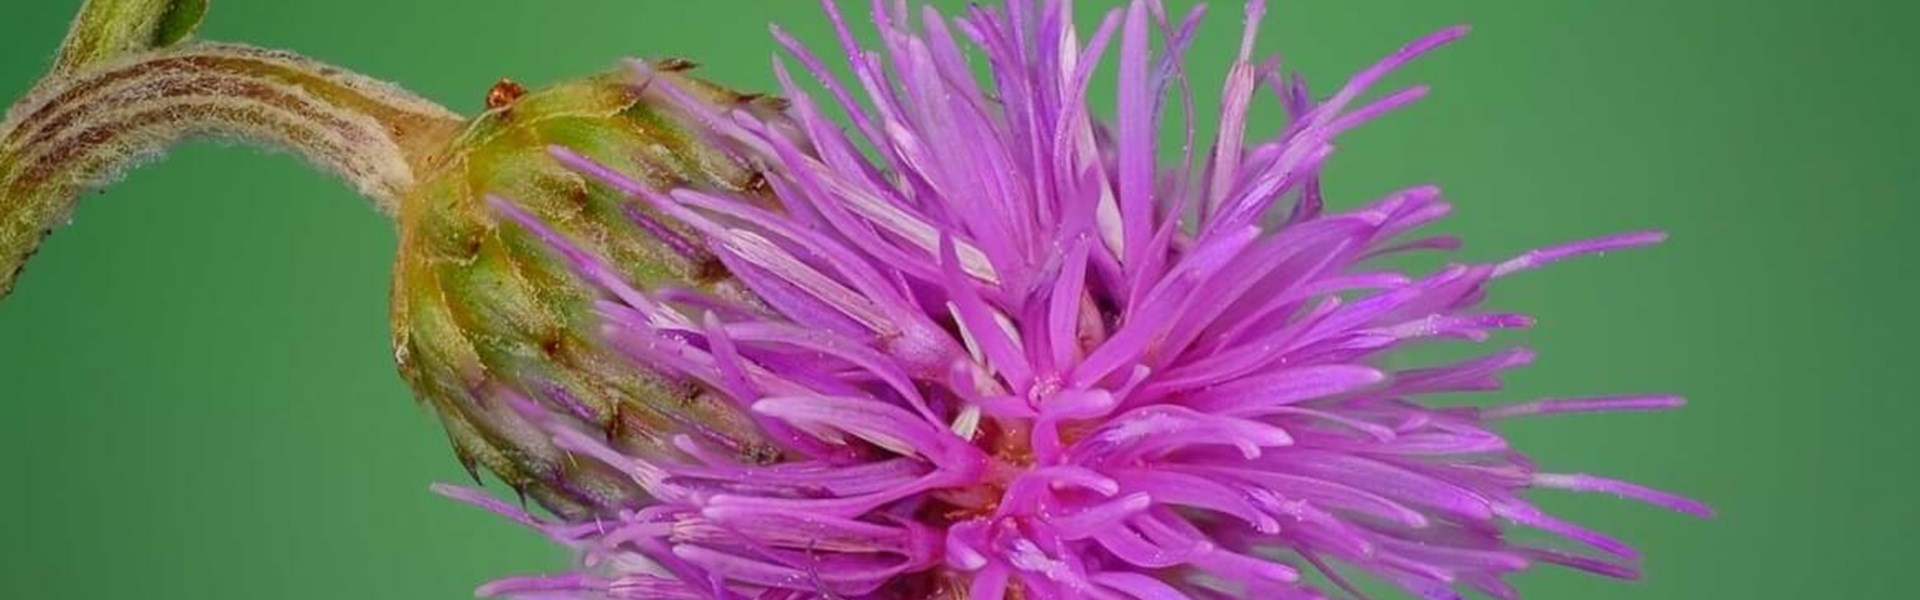thistle: (404, 33, 1719, 600)
